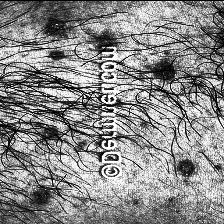Non-Cancerous Skin Condition: (15, 4, 96, 68), (9, 98, 94, 153), (7, 168, 62, 218), (150, 146, 206, 192), (144, 50, 191, 92)
